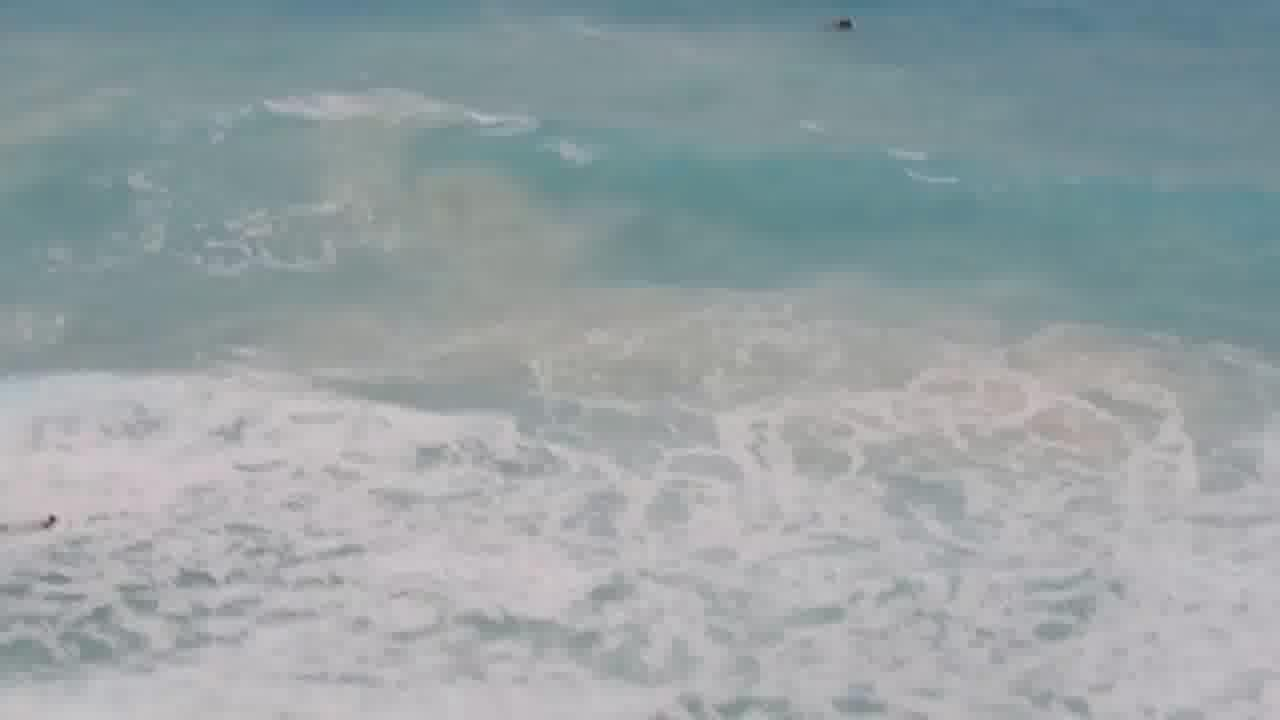swimmer: (26, 501, 53, 532), (824, 11, 854, 24)
